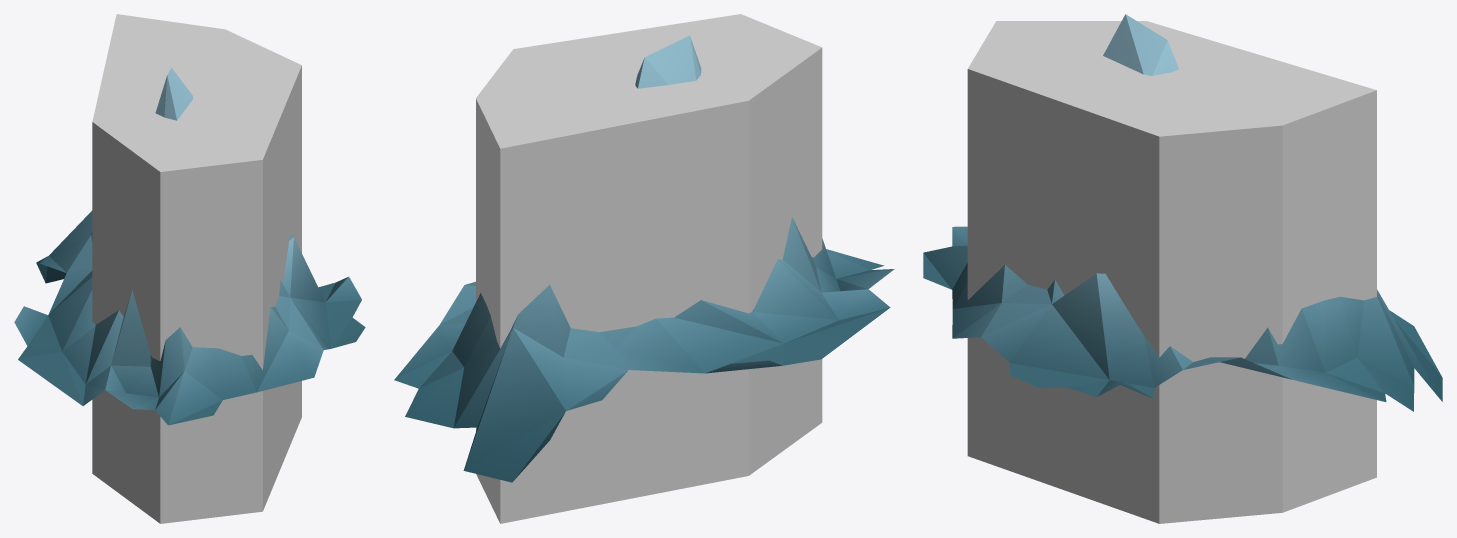
The model's file is island_small_ice_Collection_7.fbx.
The picture shows the model from 3 angles, left to right: view 1: azimuth 30°, elevation 25°; view 2: azimuth 150°, elevation 25°; view 3: azimuth 270°, elevation 25°; orthographic projection. The views are drawn at different scales.
Parts seen in each view (by area): view 1: islandRock_7_col, islandRock_7; view 2: islandRock_7_col, islandRock_7; view 3: islandRock_7_col, islandRock_7.
Boxes of the visible parts, x1,y1,x2,y2 form: islandRock_7_col: (92, 14, 301, 523); islandRock_7: (14, 68, 365, 425); islandRock_7_col: (476, 14, 822, 523); islandRock_7: (394, 35, 894, 482); islandRock_7_col: (967, 21, 1376, 523); islandRock_7: (923, 14, 1442, 411).
Bounding box in the file's own units: 2923 × 3425 × 3755.
